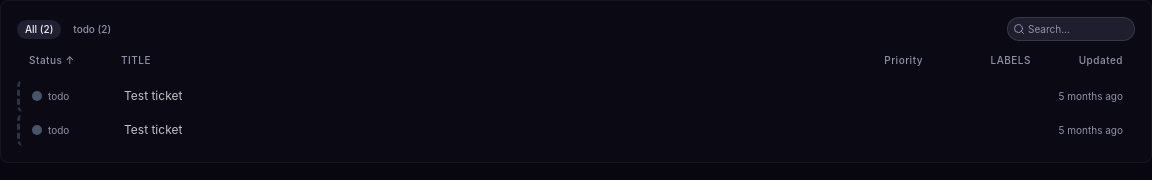
Test: TicketListView › sorting › toggles sort direction when same header is clicked
Note: Status is already the active sort field — clicking once toggles asc→desc
Click the button "Status ↑" at (69, 60), box [29, 53, 109, 68]
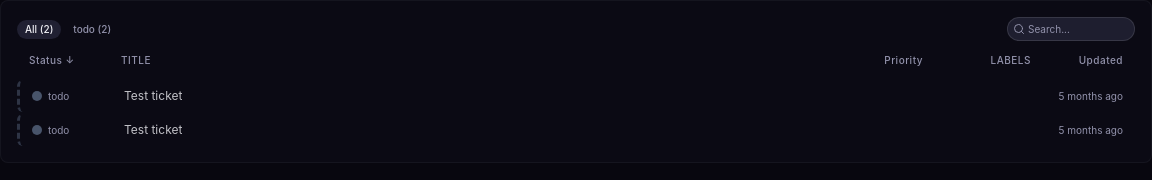
Check: the button "Status ↓" is shown, box [29, 53, 109, 68]
